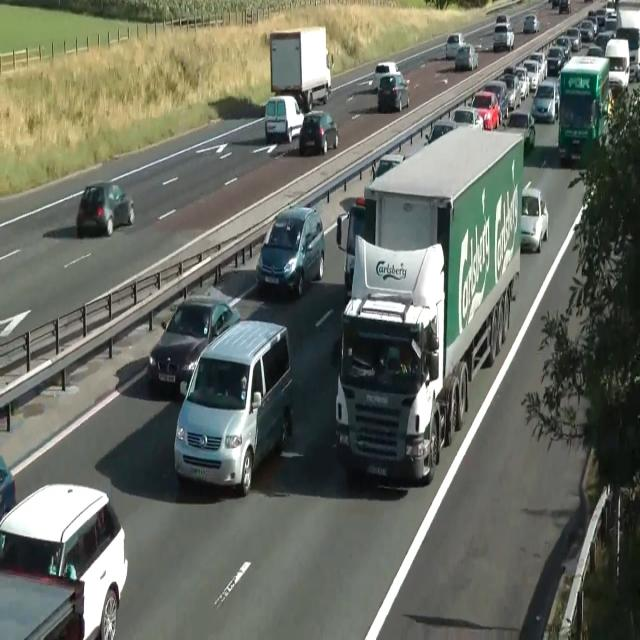bus: (76, 180, 134, 237), (336, 196, 368, 296), (520, 180, 548, 252), (299, 110, 339, 156), (502, 111, 536, 153), (466, 90, 500, 130), (377, 72, 410, 112), (483, 80, 509, 124), (0, 455, 16, 522), (424, 120, 458, 146), (373, 153, 405, 180), (498, 73, 521, 110), (373, 61, 399, 92), (451, 106, 484, 130), (454, 44, 478, 70), (546, 46, 566, 76), (446, 32, 466, 60), (514, 66, 530, 100), (594, 31, 616, 54), (577, 19, 595, 42), (522, 13, 540, 33), (566, 28, 582, 50), (605, 0, 617, 19), (559, 0, 571, 14), (495, 14, 509, 25)
jeep: (174, 318, 294, 495), (0, 482, 128, 638), (147, 294, 240, 398), (255, 204, 325, 297), (264, 94, 304, 144), (530, 79, 558, 123), (492, 21, 514, 51)
minibus: (334, 127, 524, 484), (558, 54, 610, 166), (269, 25, 333, 112), (616, 2, 640, 81), (604, 37, 630, 100)
